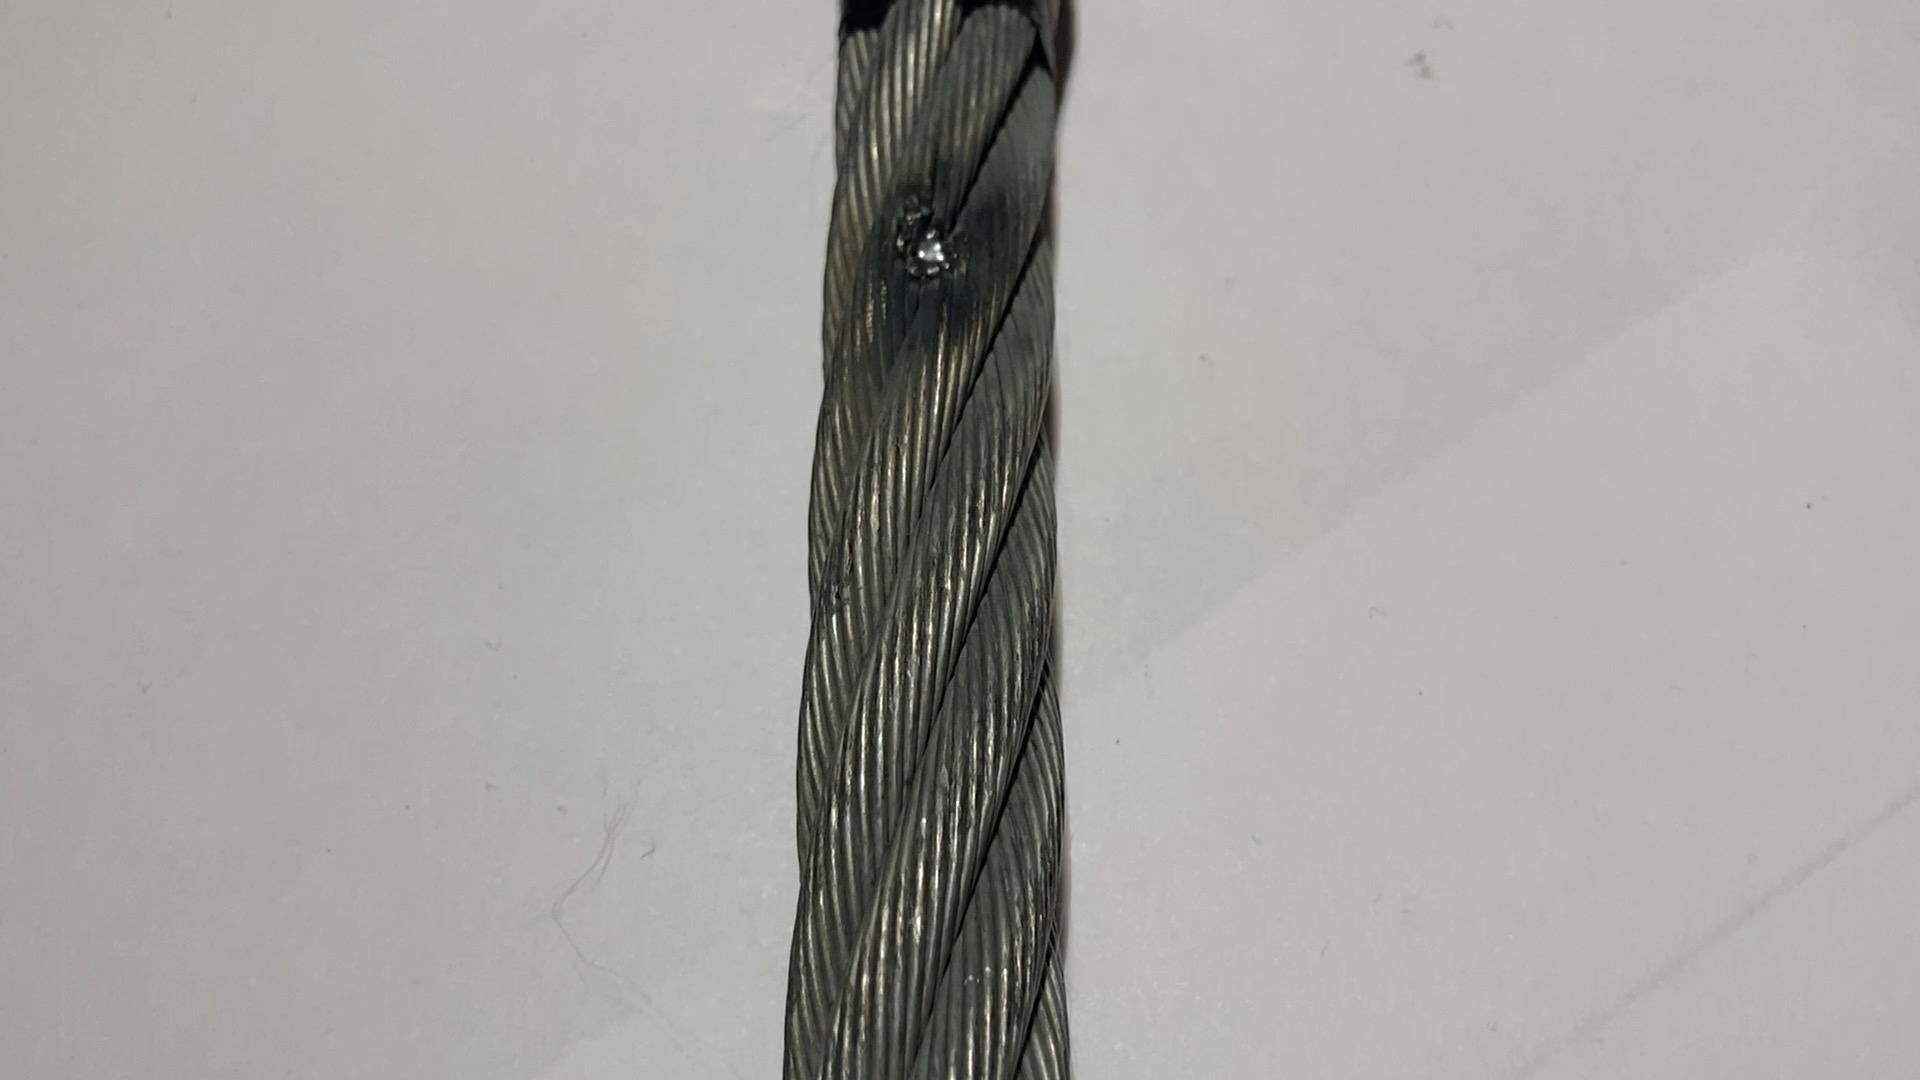thunderbolt: (872, 153, 986, 316)
